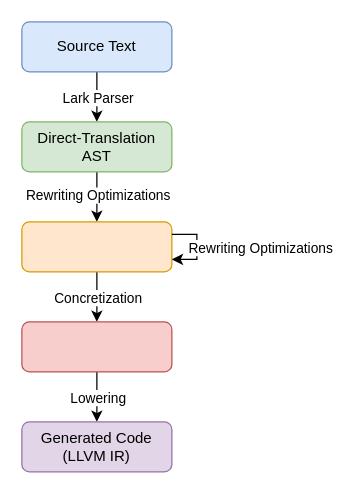
The diagram is 354 pixels wide and 494 high, and some of its shapes have lost their labels. Here are the shapes that lost their labels. From the top down, the centre of each, then its label:
At pixel 96 246: "AST Optimization".
At pixel 96 346: "Concrete AST".
